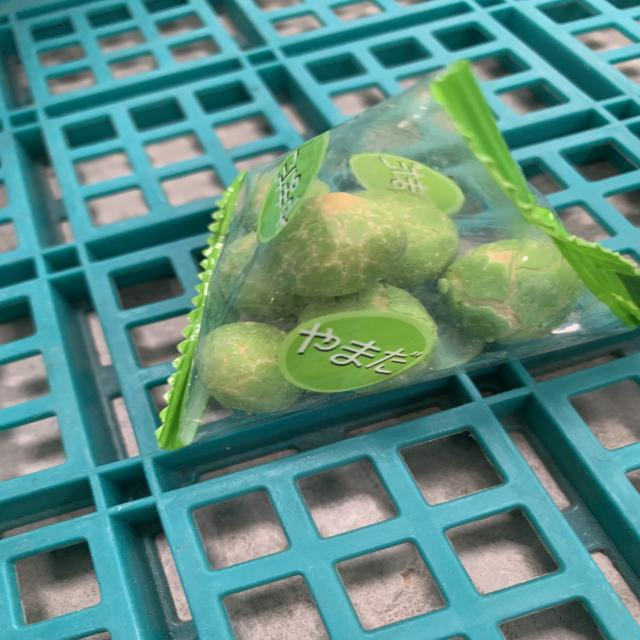object_name: (205, 85, 640, 404)
